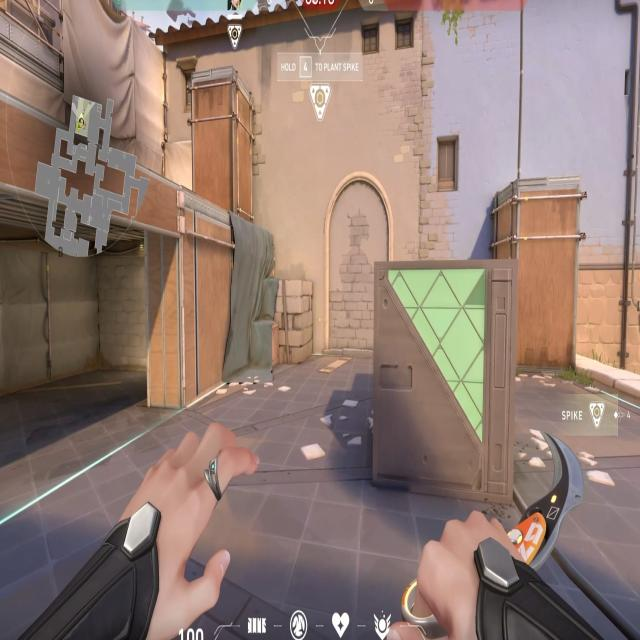A_Heaven_Box: (187, 57, 262, 225)
A_Site_Box: (365, 244, 544, 544)
